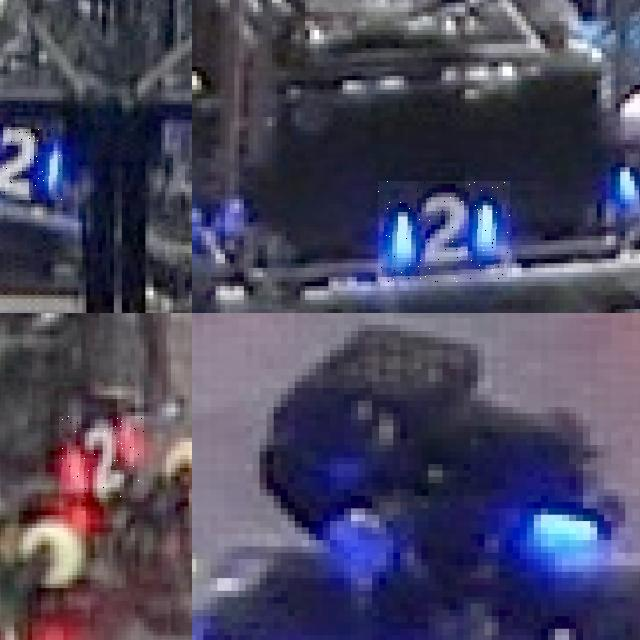B2: (378, 181, 510, 282), (0, 127, 62, 199)
R2: (59, 416, 144, 498)
